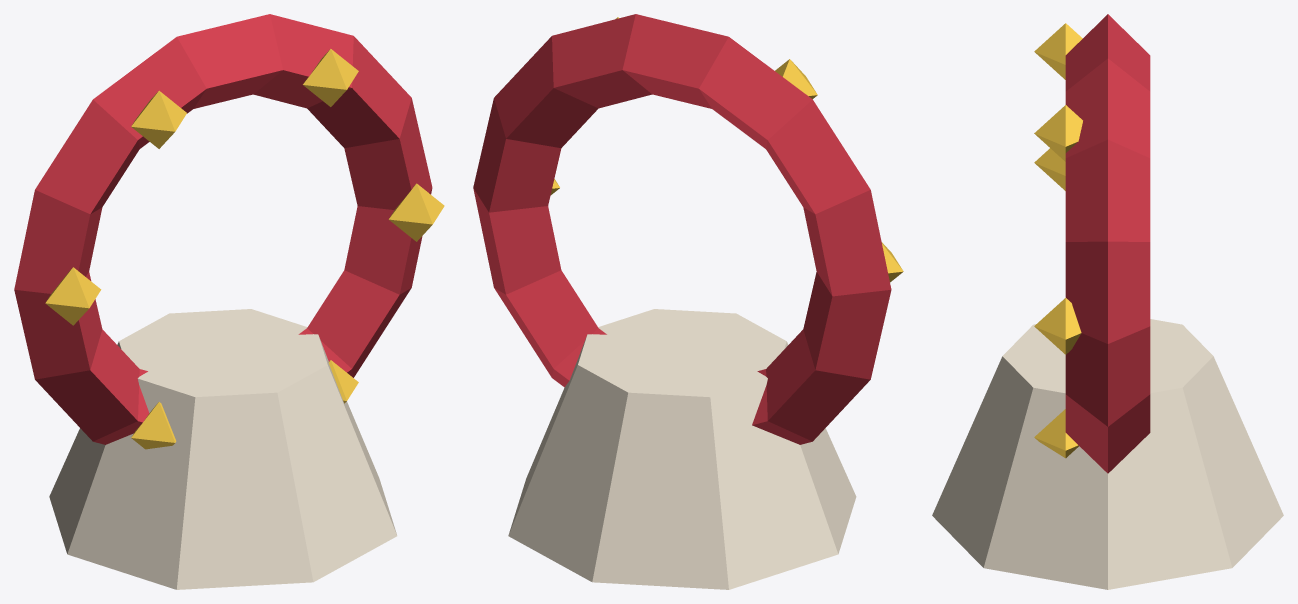
Rendered from dog_collar.glb.
The picture shows the model from 3 angles, left to right: view 1: azimuth 30°, elevation 25°; view 2: azimuth 150°, elevation 25°; view 3: azimuth 270°, elevation 25°; orthographic projection. The views are drawn at different scales.
Parts seen in each view (by area): view 1: stand_collar_stand, collar_collar_leather, collar_gold; view 2: stand_collar_stand, collar_collar_leather, collar_gold; view 3: stand_collar_stand, collar_collar_leather, collar_gold.
Part boxes in pixels (x1,y1,x2,y2): stand_collar_stand: (49, 309, 397, 589); collar_collar_leather: (14, 14, 432, 444); collar_gold: (45, 49, 444, 449); stand_collar_stand: (508, 309, 856, 589); collar_collar_leather: (473, 14, 891, 444); collar_gold: (550, 17, 903, 282); stand_collar_stand: (932, 319, 1283, 589); collar_collar_leather: (1065, 14, 1150, 473); collar_gold: (1034, 23, 1082, 458).
Size of the model in its own units: 0.134 by 0.1503 by 0.1.
